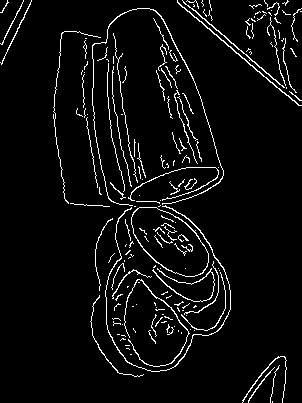cucumber: (83, 3, 223, 208), (97, 274, 198, 371), (113, 202, 219, 282)
